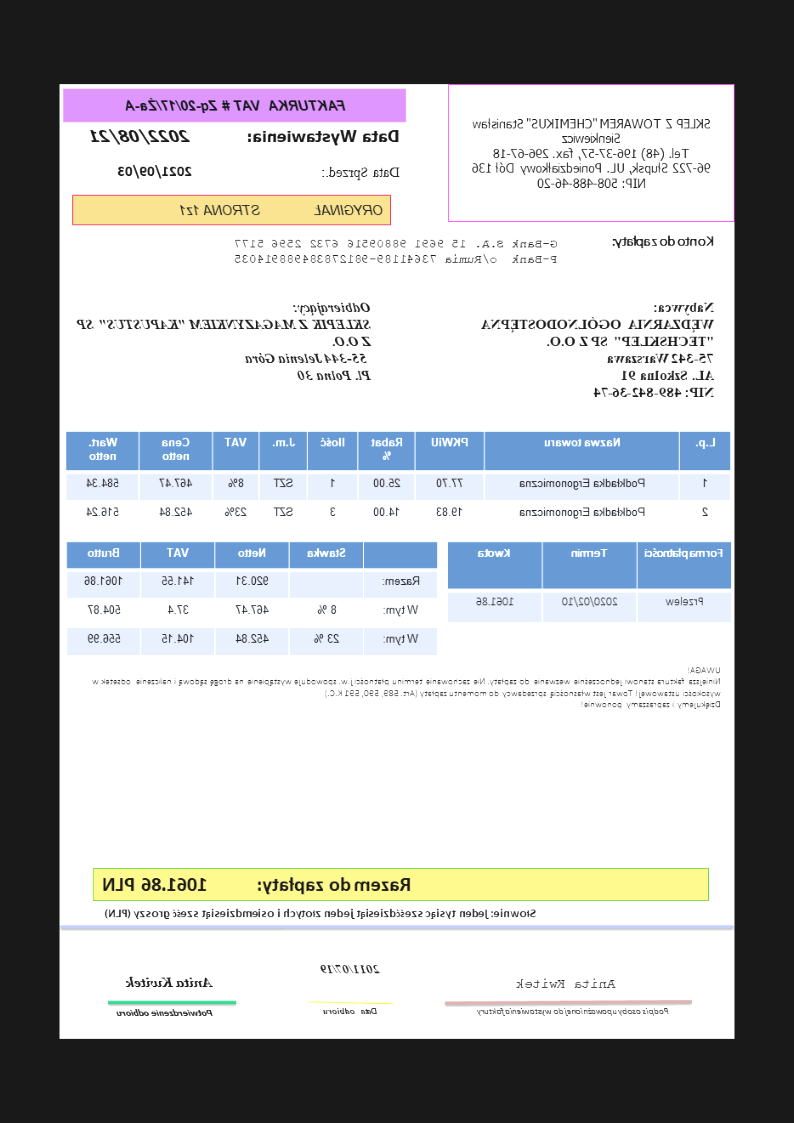Table: (65, 428, 733, 533), (65, 541, 441, 657), (445, 539, 733, 625)
TextBox: (88, 662, 723, 712), (75, 300, 375, 386), (476, 298, 718, 403), (467, 113, 717, 193), (230, 236, 564, 266), (103, 904, 540, 921), (99, 871, 414, 894), (119, 93, 351, 116), (178, 201, 385, 219), (244, 126, 403, 148), (473, 1005, 673, 1018), (88, 124, 191, 145), (610, 232, 719, 251), (318, 163, 405, 181), (122, 974, 217, 989), (517, 976, 618, 990), (115, 164, 195, 180), (112, 1007, 215, 1019), (316, 961, 382, 976), (318, 1005, 379, 1017)
